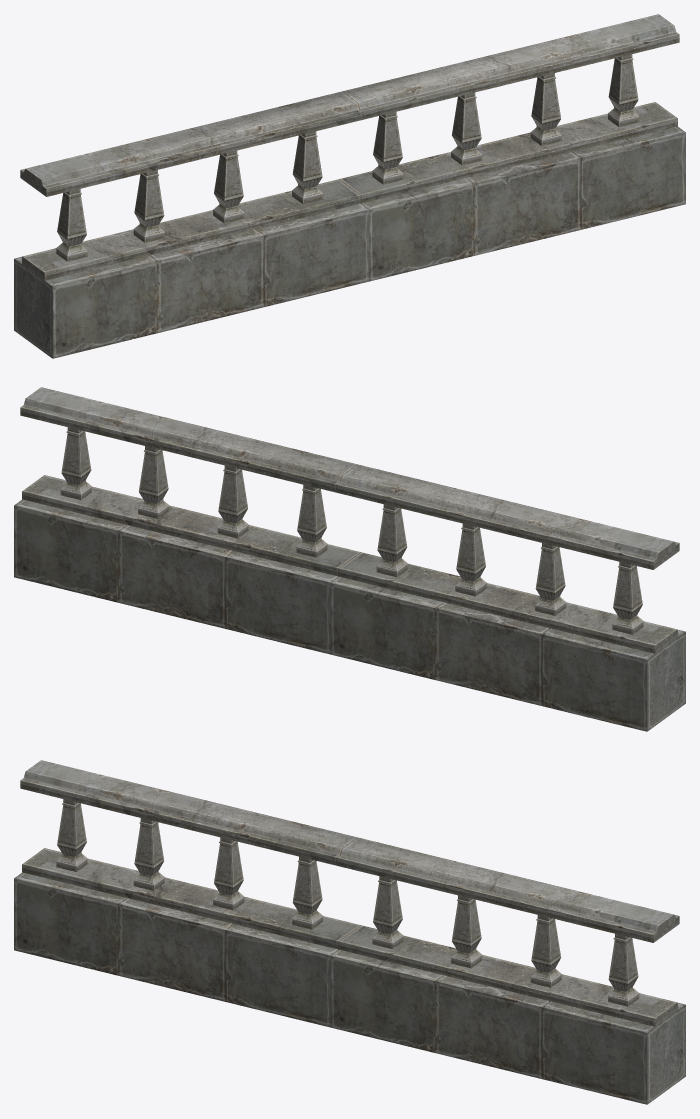
File: bg_lut_lucastle_stairfence02c_sm_kss.FBX
3 views of the same model, one above another, from view 1: azimuth 30°, elevation 25°; view 2: azimuth 150°, elevation 25°; view 3: azimuth 330°, elevation 25° (orthographic).
Visible parts, largest first — view 1: bg_lut_lucastle_stairfence02c_sm_kss; view 2: bg_lut_lucastle_stairfence02c_sm_kss; view 3: bg_lut_lucastle_stairfence02c_sm_kss.
Boxes of the visible parts, left/top/right/bottom form: bg_lut_lucastle_stairfence02c_sm_kss: left=14, top=14, right=685, bottom=358; bg_lut_lucastle_stairfence02c_sm_kss: left=14, top=387, right=685, bottom=731; bg_lut_lucastle_stairfence02c_sm_kss: left=14, top=760, right=685, bottom=1104.
Size of the model in its own units: 576 by 148 by 60.96.
